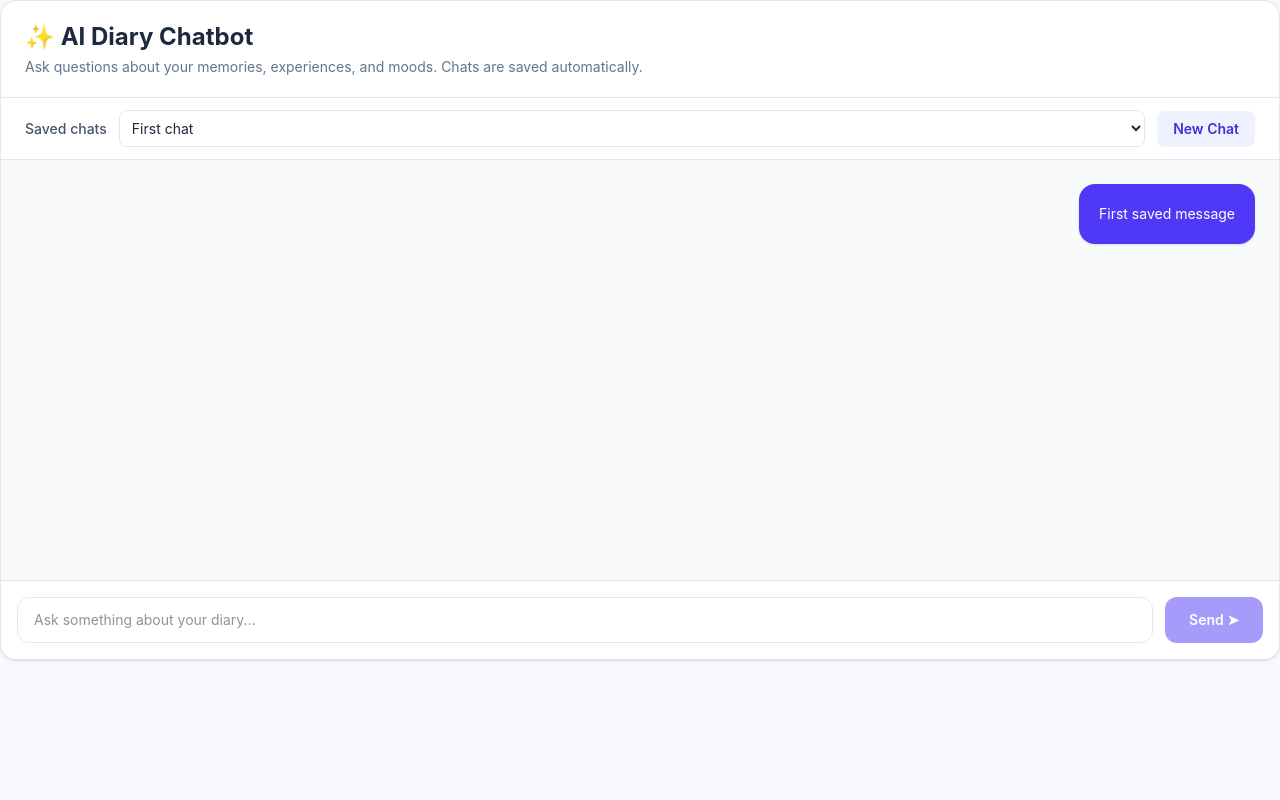
Test: Saved conversations › restores chats and keeps selected conversation messages separate
The width and height of the screenshot is (1280, 800).
Check: the text "First saved message" is shown, box left=1099, top=200, right=1235, bottom=228
Select "Second chat" in the dropdown named "Saved conversations" at (632, 128), box left=119, top=110, right=1145, bottom=147
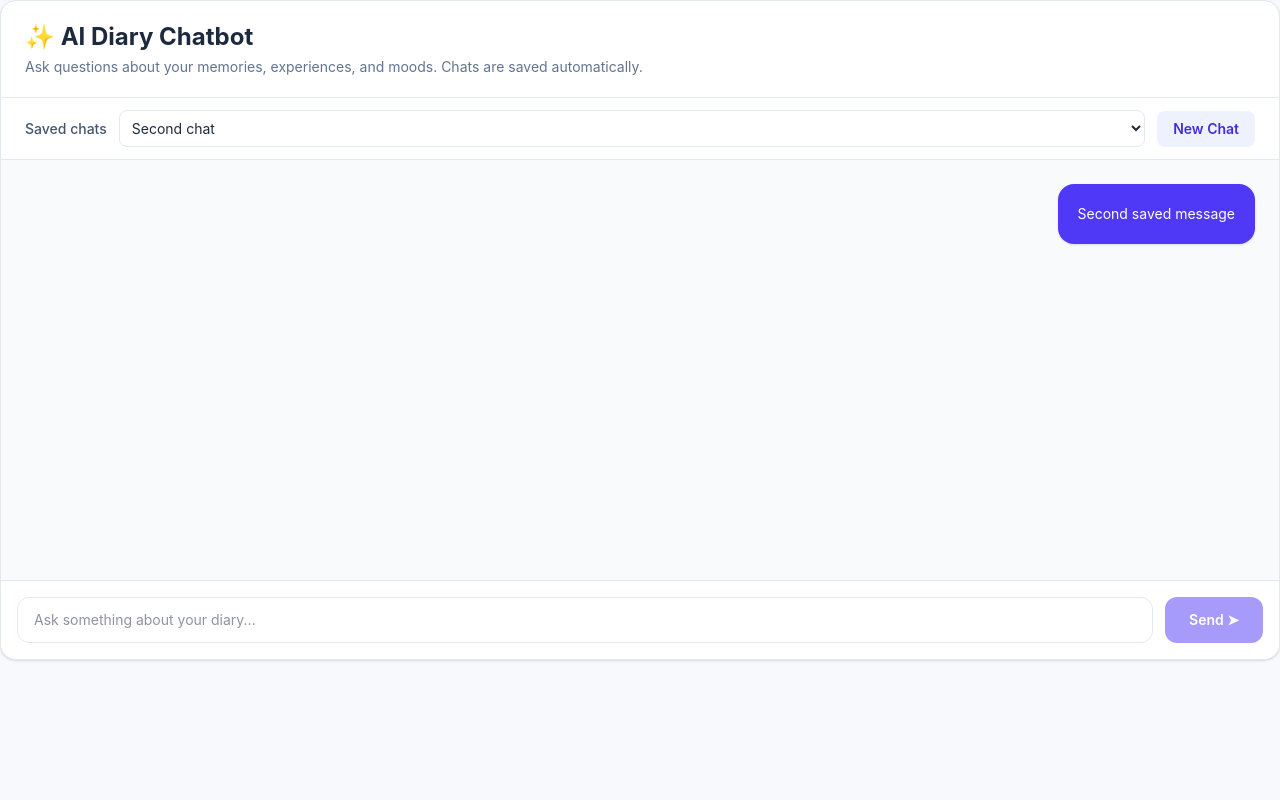
Check: the text "Second saved message" is shown, box left=1078, top=200, right=1235, bottom=228
Check: the text "First saved message" is gone
